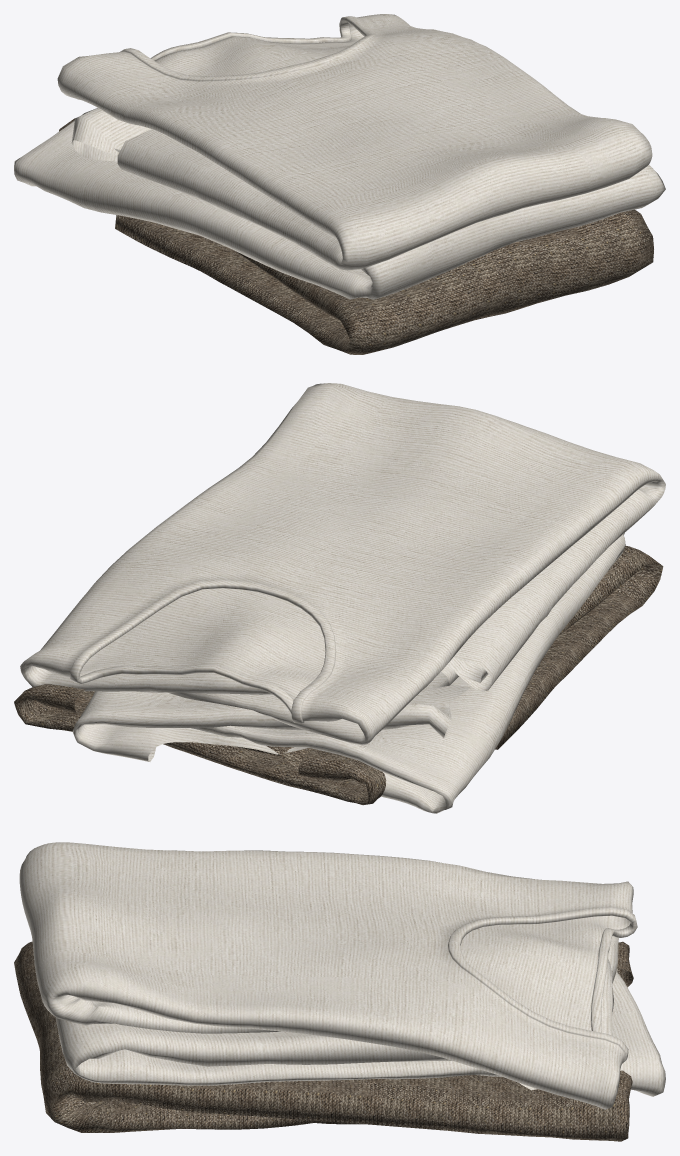
Rendered from addition-stack-left.glb.
The picture shows the model from 3 angles, top to bottom: view 1: azimuth 30°, elevation 25°; view 2: azimuth 150°, elevation 25°; view 3: azimuth 270°, elevation 25°; orthographic projection. The views are drawn at different scales.
Parts seen in each view (by area): view 1: cloth014, cloth016, cloth015; view 2: cloth014, cloth015, cloth016; view 3: cloth014, cloth016, cloth015.
Boxes of the visible parts, x1=… form: cloth014: x1=57, y1=14, x2=652, y2=270; cloth016: x1=59, y1=118, x2=653, y2=354; cloth015: x1=14, y1=108, x2=665, y2=299; cloth014: x1=20, y1=383, x2=665, y2=745; cloth015: x1=73, y1=533, x2=625, y2=813; cloth016: x1=14, y1=545, x2=663, y2=805; cloth014: x1=19, y1=842, x2=637, y2=1109; cloth016: x1=14, y1=941, x2=633, y2=1141; cloth015: x1=55, y1=968, x2=665, y2=1096.
Size of the model in its own units: 0.3011 by 0.1087 by 0.3965.
2 materials, 2 textured.
